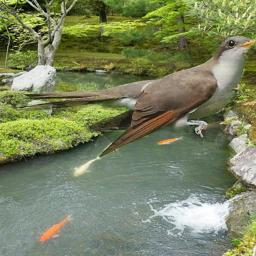Cuckoo: (17, 35, 256, 157)
